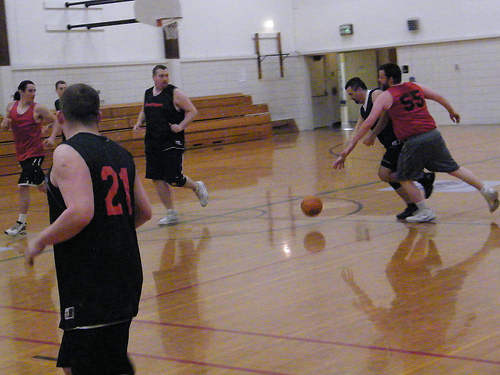basketball: (301, 195, 323, 217)
